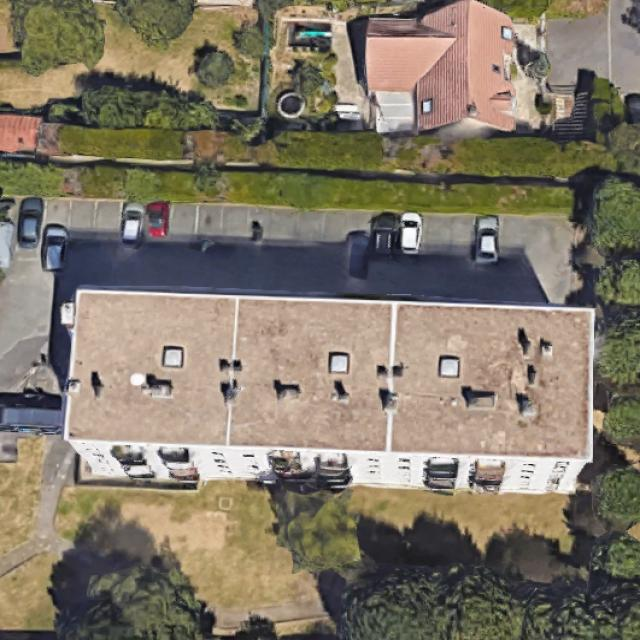immeuble: (62, 289, 596, 493)
maison: (366, 0, 515, 132)
